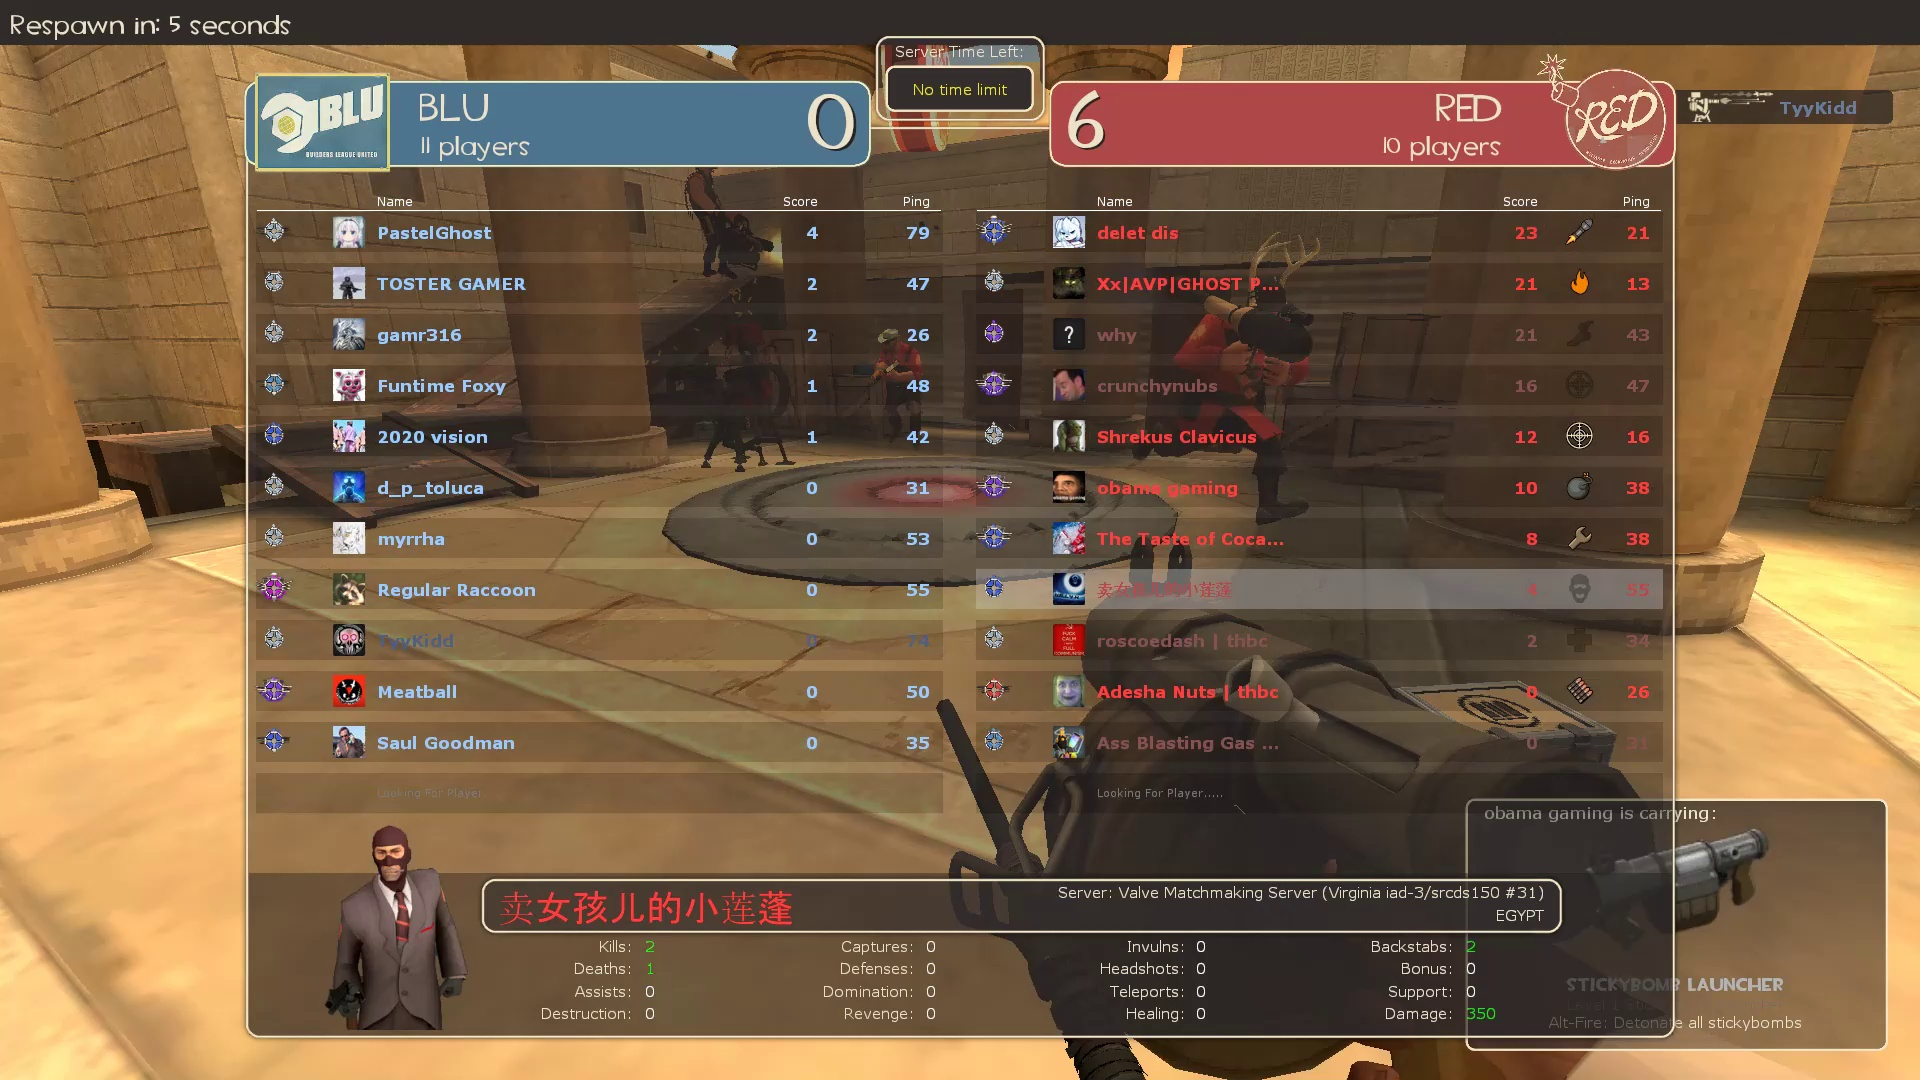red_engineer: (862, 323, 939, 448)
red_heavy: (673, 152, 787, 286)
red_sentry_3: (666, 313, 806, 477)
red_soldier: (1129, 225, 1338, 543)
